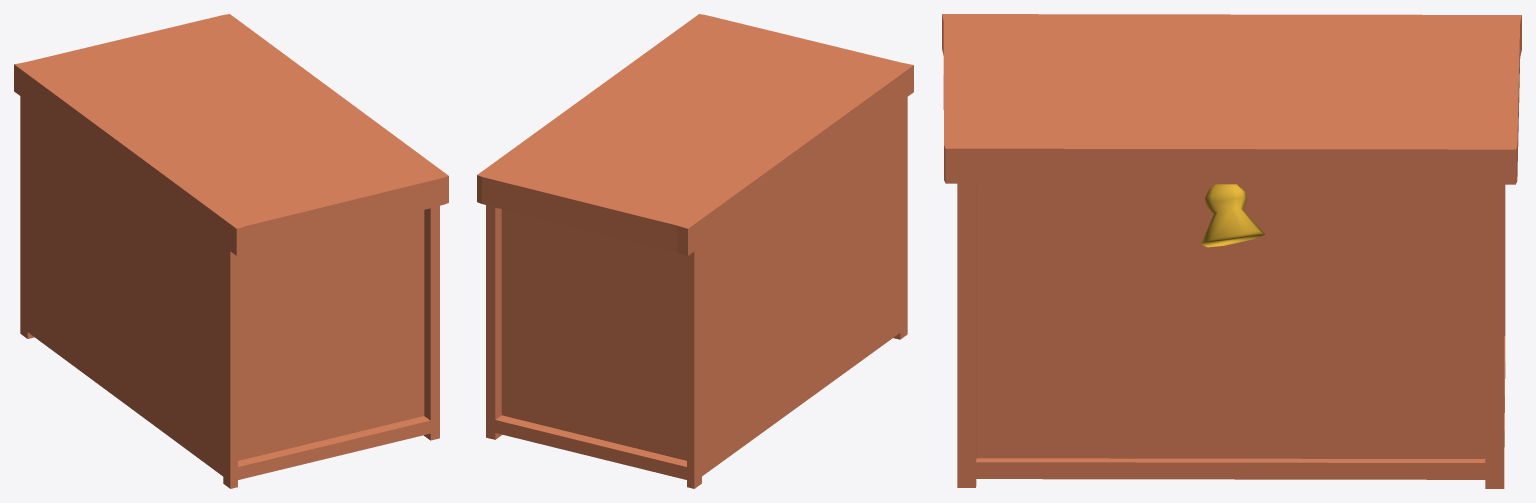
Rendered from bau.fbx.
3 views of the same model, side by side, from view 1: azimuth 30°, elevation 25°; view 2: azimuth 150°, elevation 25°; view 3: azimuth 270°, elevation 25° (orthographic). The views are drawn at different scales.
Parts seen in each view (by area): view 1: Cube.089; view 2: Cube.089; view 3: Cube.089, Cube.090.
Boxes of the visible parts, bbox=[...] form: Cube.089: bbox=[14, 14, 448, 488]; Cube.089: bbox=[477, 14, 913, 488]; Cube.089: bbox=[942, 14, 1521, 488]; Cube.090: bbox=[1201, 184, 1264, 247].
Bounding box in the file's own units: 302 × 317 × 487.
